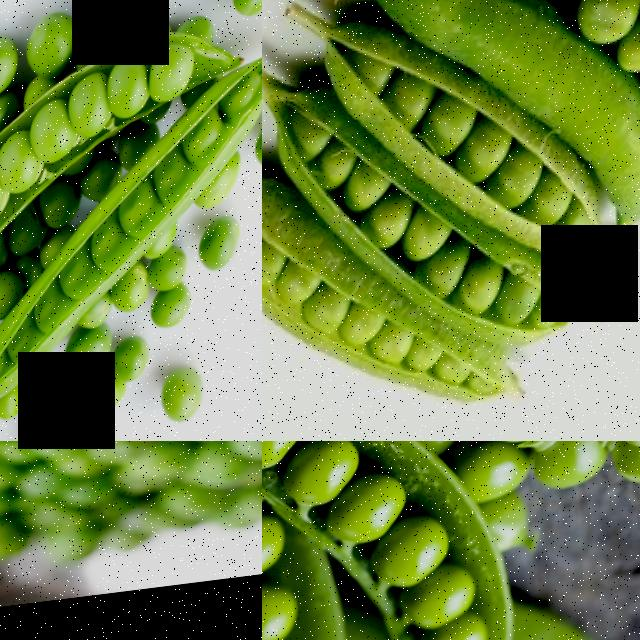peas: (262, 86, 621, 436), (263, 441, 546, 640), (0, 18, 199, 297), (60, 255, 220, 439), (284, 441, 640, 485), (262, 502, 349, 640), (0, 226, 50, 350)
